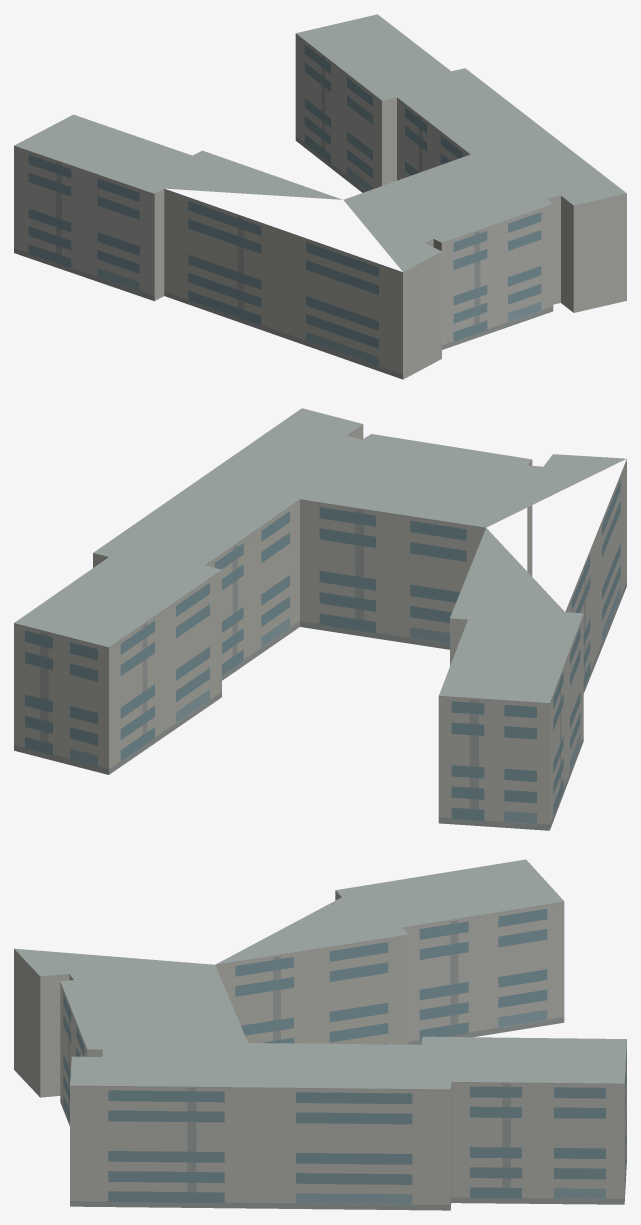
The model's file is survey-upis-32946125.glb.
3 renders of one model, top to bottom at view 1: azimuth 30°, elevation 25°; view 2: azimuth 150°, elevation 25°; view 3: azimuth 270°, elevation 25°, orthographic. The views are drawn at different scales.
Parts seen in each view (by area): view 1: survey-upis-32946125.tmp; view 2: survey-upis-32946125.tmp; view 3: survey-upis-32946125.tmp.
Boxes of the visible parts, x1=… form: survey-upis-32946125.tmp: x1=14, y1=14, x2=626, y2=379; survey-upis-32946125.tmp: x1=14, y1=408, x2=626, y2=830; survey-upis-32946125.tmp: x1=14, y1=859, x2=626, y2=1210.
Size of the model in its own units: 74.5 by 18.3 by 83.91.
